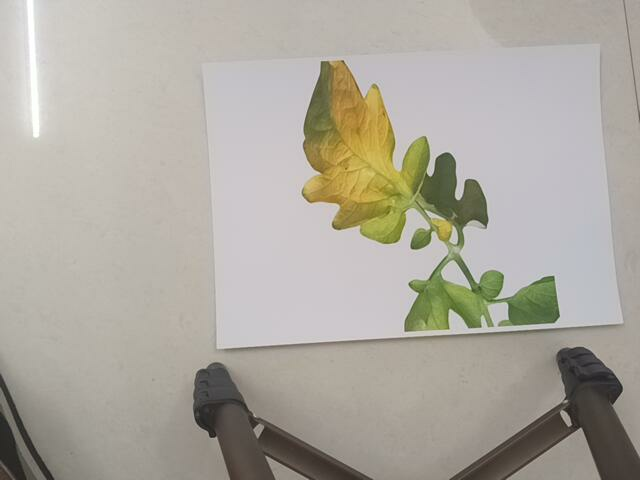Tomamto_Yellow_Disease: (289, 57, 574, 337)
